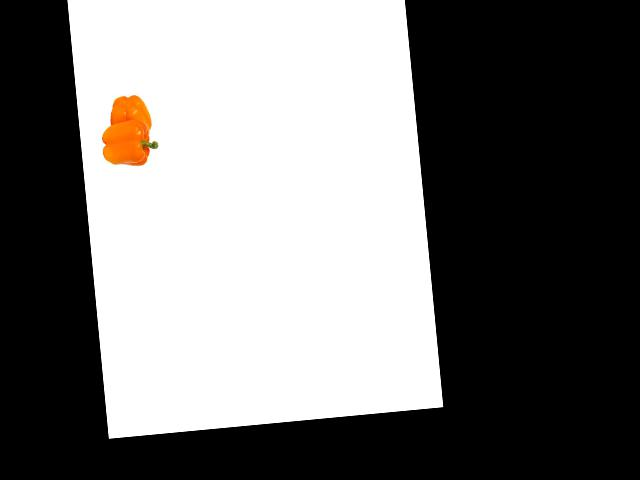bell_pepper: (102, 90, 154, 138)
